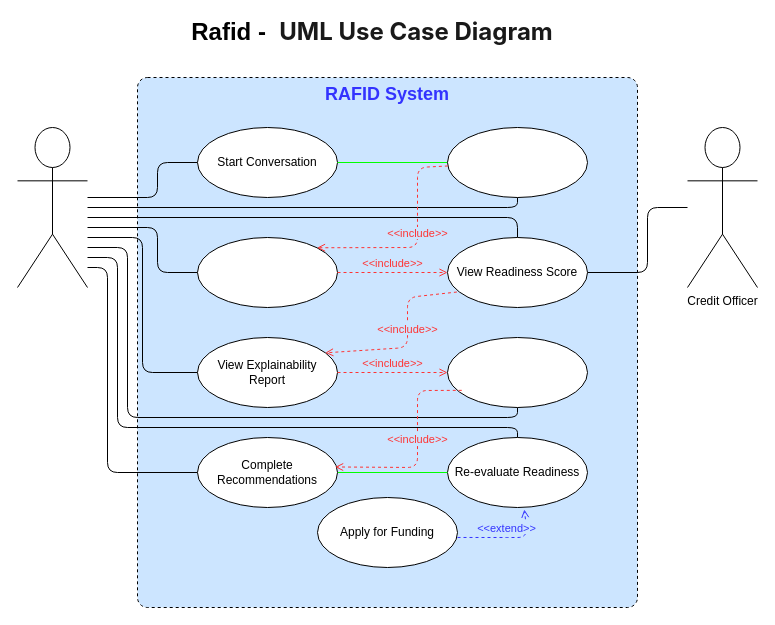
The diagram is 775 pixels wide and 625 high, and some of its shapes have lost their labels. The box of each missing label's shape, as (x1, y1, x2, y2) in pixels:
Answer Business Questions: (446, 126, 588, 198)
Connect Bank Account: (196, 236, 338, 308)
Get personalized Roadmap: (446, 336, 588, 408)
SME Owner: (16, 126, 88, 288)
